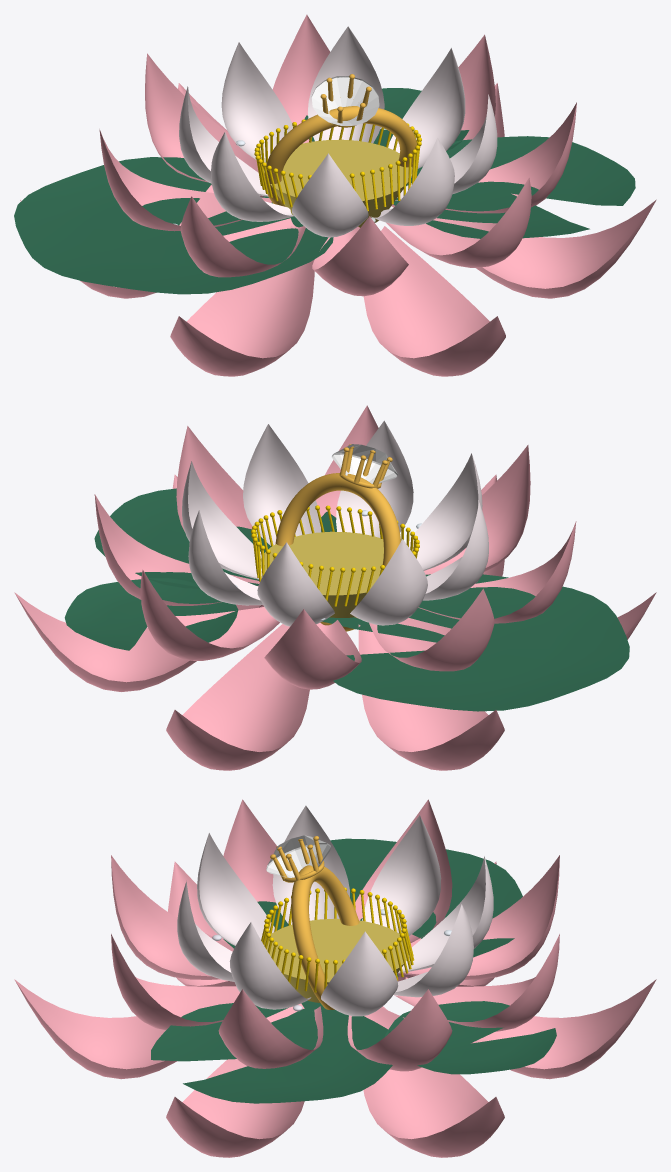
Rendered from lotus.glb.
3 renders of one model, top to bottom at view 1: azimuth 30°, elevation 25°; view 2: azimuth 150°, elevation 25°; view 3: azimuth 270°, elevation 25°, orthographic.
Visible parts, largest first — view 1: LilyPad_Main, Petal_Outer_1, Petal_Outer_6, LilyPad_Medium, Petal_Outer_2, Receptacle, Petal_Middle_1, Petal_Inner_5, Petal_Middle_8, Petal_Inner_3, Petal_Middle_7, Petal_Inner_8 (+16 smaller); view 2: LilyPad_Main, Petal_Outer_4, Petal_Outer_5, LilyPad_Small, Petal_Outer_3, Receptacle, Petal_Middle_4, Petal_Middle_5, LilyPad_Medium, Petal_Inner_2, Petal_Middle_6, Petal_Inner_8 (+16 smaller); view 3: LilyPad_Medium, Petal_Outer_3, Petal_Outer_1, Petal_Outer_2, LilyPad_Small, Petal_Outer_4, LilyPad_Main, Petal_Inner_6, Petal_Middle_5, Petal_Middle_8, Receptacle, Petal_Middle_3 (+17 smaller).
Part boxes in pixels (bbox=[...]): LilyPad_Main: bbox=[14, 157, 333, 294]; Petal_Outer_1: bbox=[363, 226, 505, 376]; Petal_Outer_6: bbox=[170, 226, 314, 376]; LilyPad_Medium: bbox=[393, 136, 635, 238]; Petal_Outer_2: bbox=[476, 199, 656, 298]; Receptacle: bbox=[263, 139, 412, 227]; Petal_Middle_1: bbox=[386, 177, 531, 267]; Petal_Inner_5: bbox=[221, 42, 293, 162]; Petal_Middle_8: bbox=[312, 216, 408, 296]; Petal_Inner_3: bbox=[388, 48, 465, 168]; Petal_Middle_7: bbox=[180, 196, 305, 277]; Petal_Inner_8: bbox=[292, 153, 368, 237]; LilyPad_Main: bbox=[322, 574, 629, 711]; Petal_Outer_4: bbox=[166, 624, 309, 770]; Petal_Outer_5: bbox=[358, 624, 504, 770]; LilyPad_Small: bbox=[64, 578, 238, 650]; Petal_Outer_3: bbox=[14, 592, 262, 691]; Receptacle: bbox=[260, 531, 383, 622]; Petal_Middle_4: bbox=[140, 570, 279, 660]; Petal_Middle_5: bbox=[264, 609, 361, 689]; LilyPad_Medium: bbox=[94, 488, 336, 588]; Petal_Inner_2: bbox=[243, 424, 320, 545]; Petal_Middle_6: bbox=[369, 588, 494, 671]; Petal_Inner_8: bbox=[406, 453, 482, 570]; LilyPad_Medium: bbox=[151, 1000, 392, 1103]; Petal_Outer_3: bbox=[363, 1006, 504, 1157]; Petal_Outer_1: bbox=[14, 979, 177, 1079]; Petal_Outer_2: bbox=[166, 1059, 304, 1157]; LilyPad_Small: bbox=[385, 1001, 556, 1074]; Petal_Outer_4: bbox=[405, 977, 656, 1079]; LilyPad_Main: bbox=[223, 838, 522, 976]; Petal_Inner_6: bbox=[362, 815, 441, 935]; Petal_Middle_5: bbox=[400, 855, 559, 979]; Petal_Middle_8: bbox=[111, 855, 233, 979]; Receptacle: bbox=[264, 918, 410, 1002]; Petal_Middle_3: bbox=[347, 989, 452, 1071].
Size of the model in its own units: 5.82 by 2.36 by 5.97.
